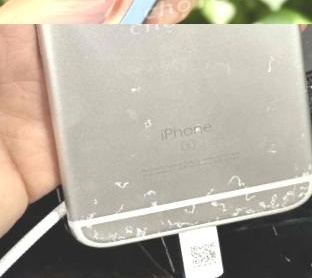scratch: (62, 128, 312, 254), (115, 69, 162, 140), (246, 33, 289, 96)
